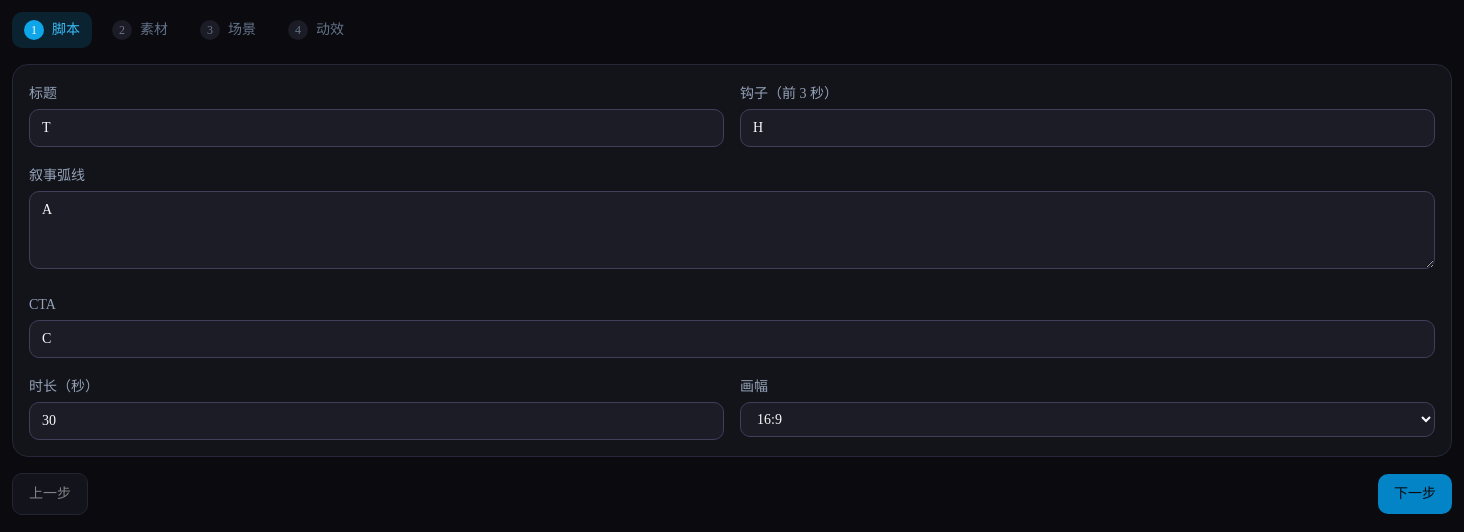
Test: PlanWizard › navigates to assets panel and renders the asset list
This screenshot has width=1464, height=532.
Click the button "下一步" at (1415, 494), box 1378,474 -> 1452,514
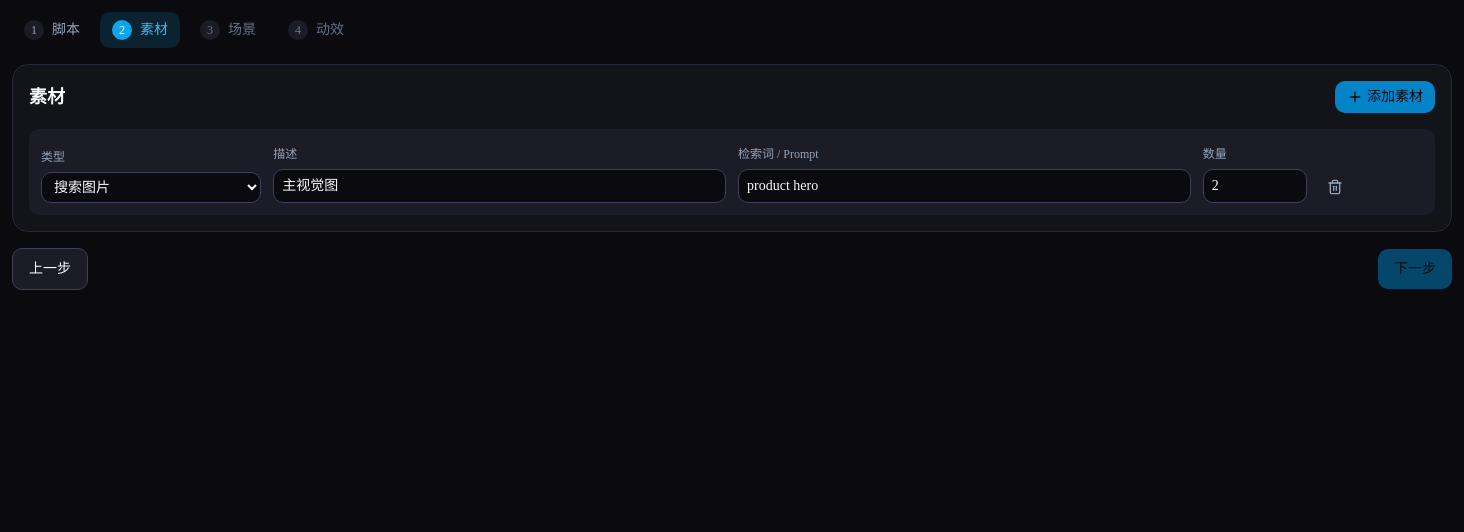
Check: the heading "素材" is shown, box 29,83 -> 65,111
Check: the field showing "主视觉图" is shown, box 273,169 -> 726,203
Check: the field showing "product hero" is shown, box 738,169 -> 1191,203
